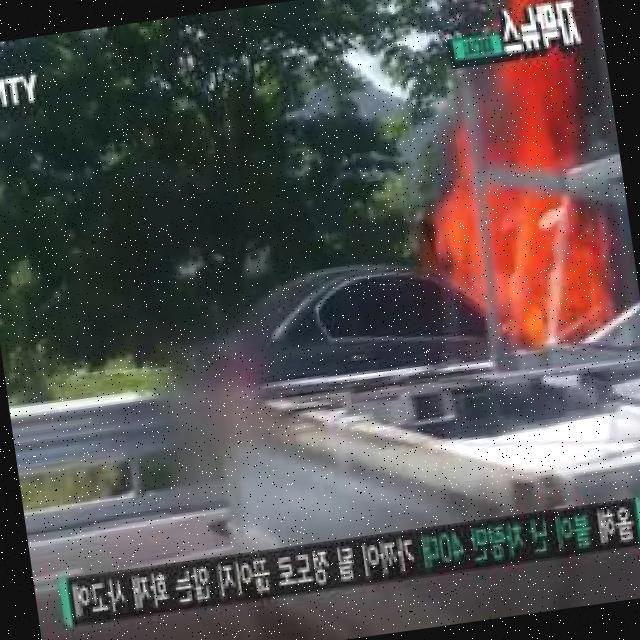Fire: (416, 45, 617, 373)
